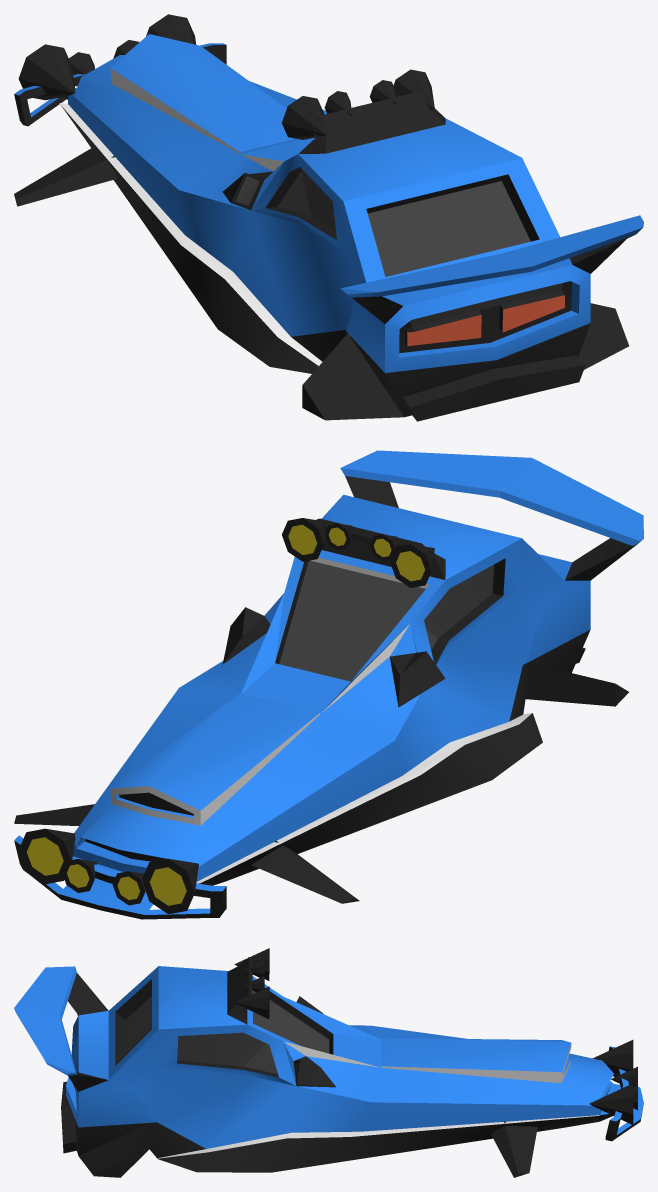
The model's file is buggy2.glb.
The picture shows the model from 3 angles, top to bottom: view 1: azimuth 30°, elevation 25°; view 2: azimuth 150°, elevation 25°; view 3: azimuth 270°, elevation 25°; orthographic projection. The views are drawn at different scales.
Parts seen in each view (by area): view 1: buggy1; view 2: buggy1; view 3: buggy1.
Boxes of the visible parts, x1,y1,x2,y2 form: buggy1: [14, 14, 643, 421]; buggy1: [14, 450, 643, 919]; buggy1: [14, 948, 643, 1177].
Size of the model in its own units: 1.16 by 0.7064 by 2.54.
Materials: 1 (1 with a texture image).
